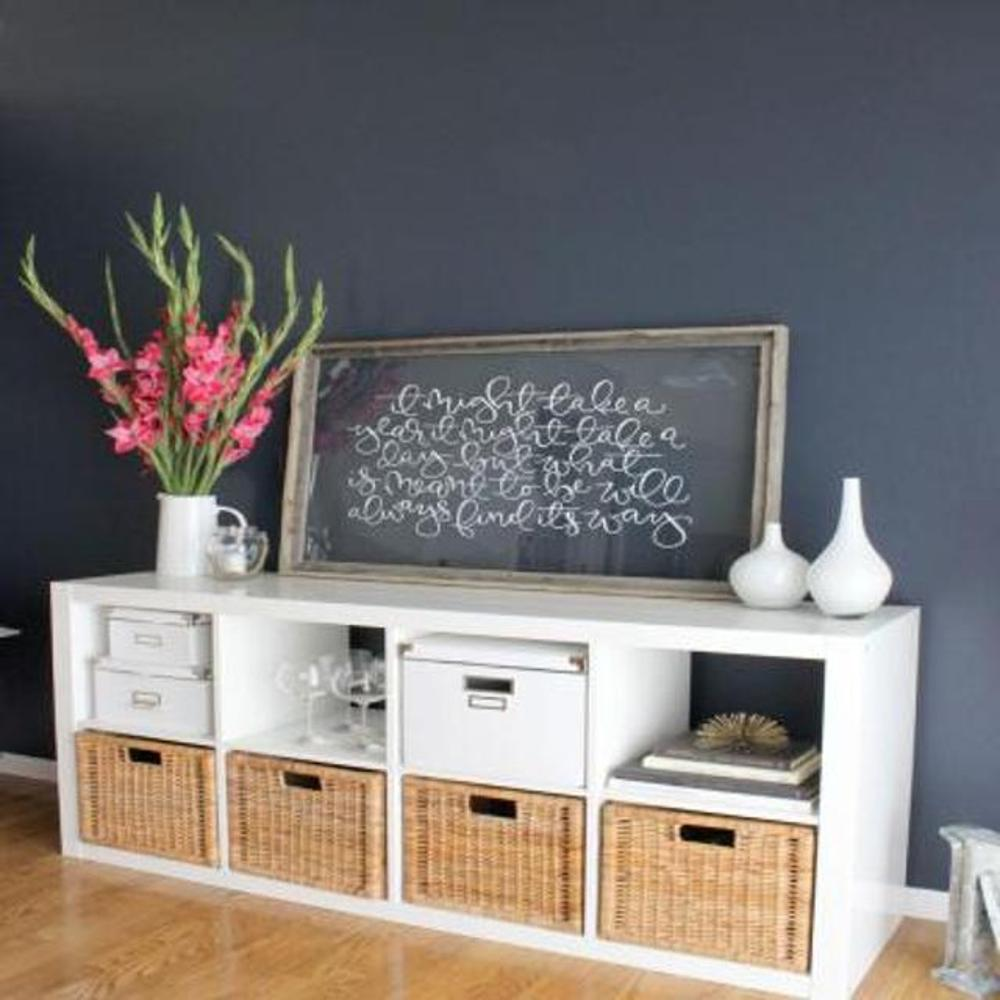lamp: (46, 558, 922, 999)
